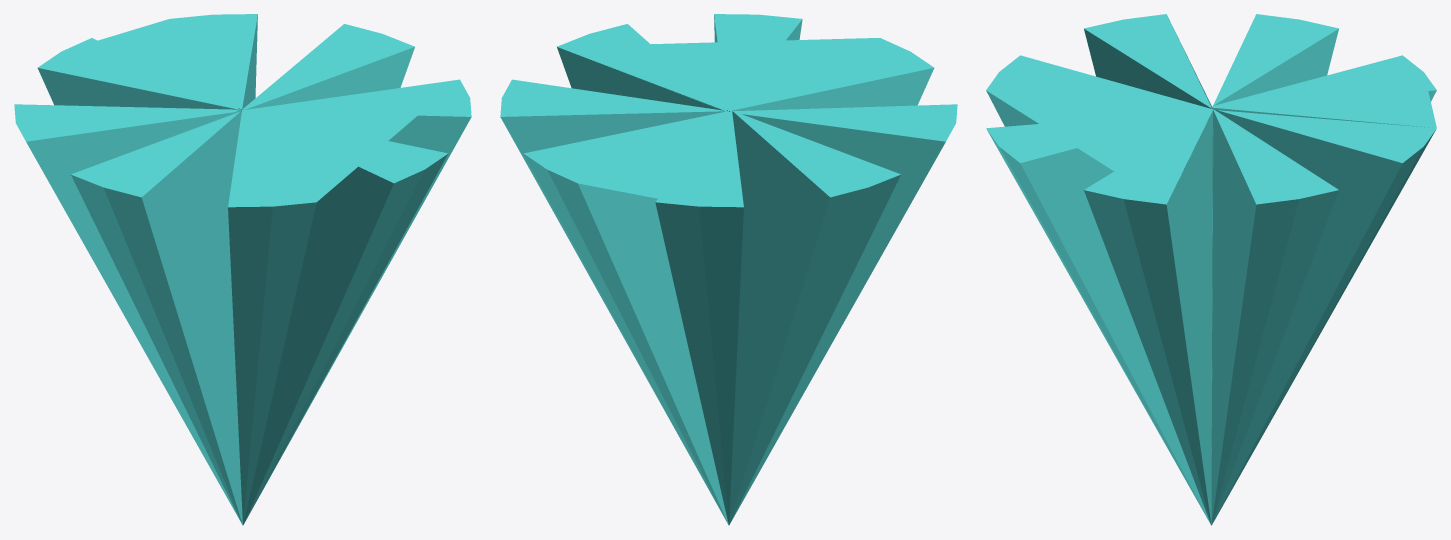
The model's file is Diamond.fbx.
The picture shows the model from 3 angles, left to right: view 1: azimuth 30°, elevation 25°; view 2: azimuth 150°, elevation 25°; view 3: azimuth 270°, elevation 25°; orthographic projection.
Parts seen in each view (by area): view 1: Cone; view 2: Cone; view 3: Cone.
Boxes of the visible parts, x1=… form: Cone: x1=14, y1=14, x2=471, y2=525; Cone: x1=500, y1=14, x2=957, y2=525; Cone: x1=986, y1=14, x2=1436, y2=525.
Size of the model in its own units: 196 by 201 by 196.
